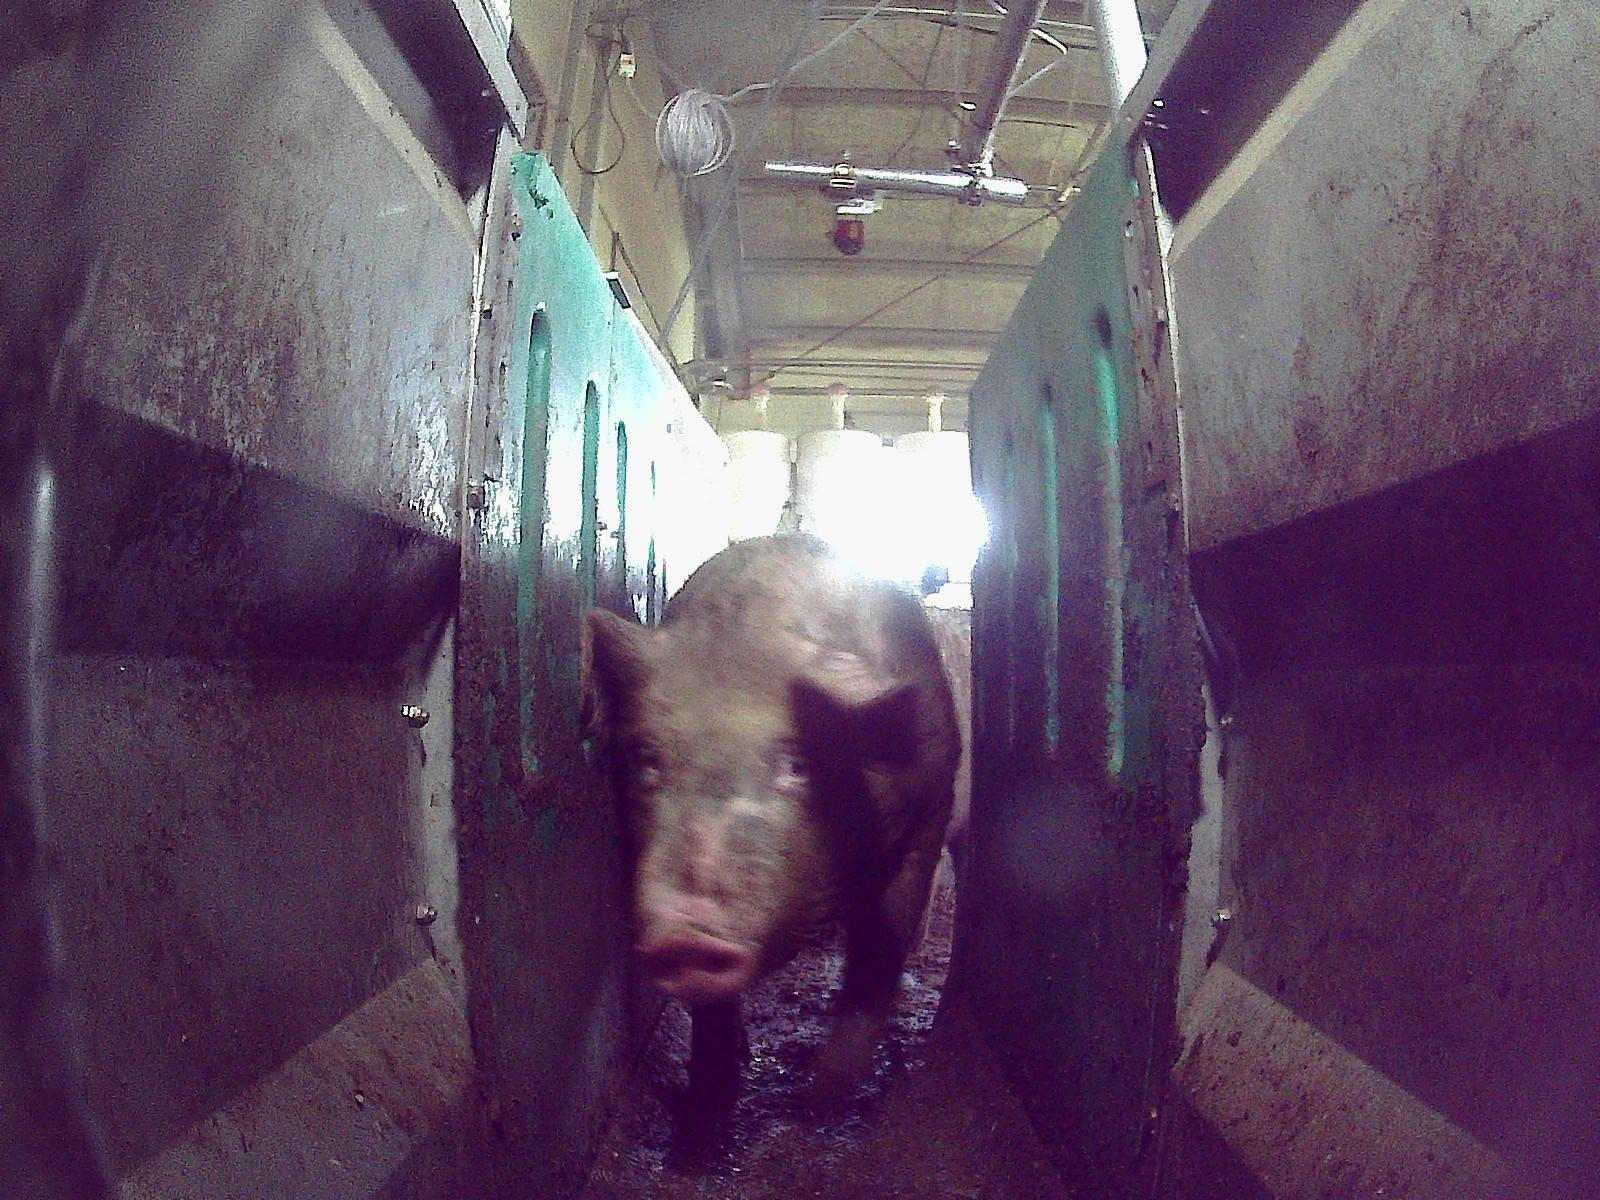Face: (622, 618, 876, 1002)
